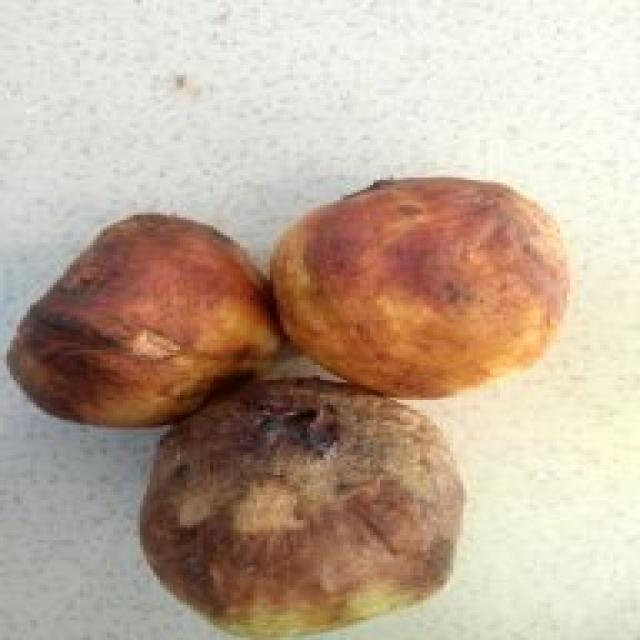Bad_Guava: (140, 379, 463, 634), (8, 214, 282, 426)
